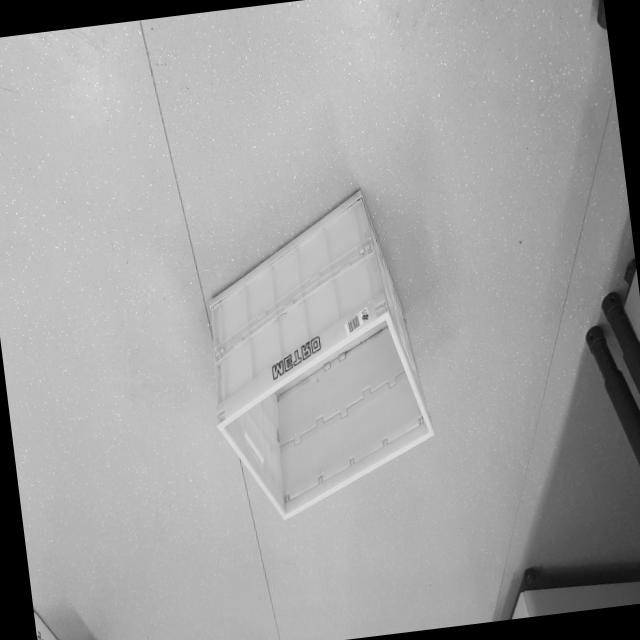box: (179, 167, 444, 540)
